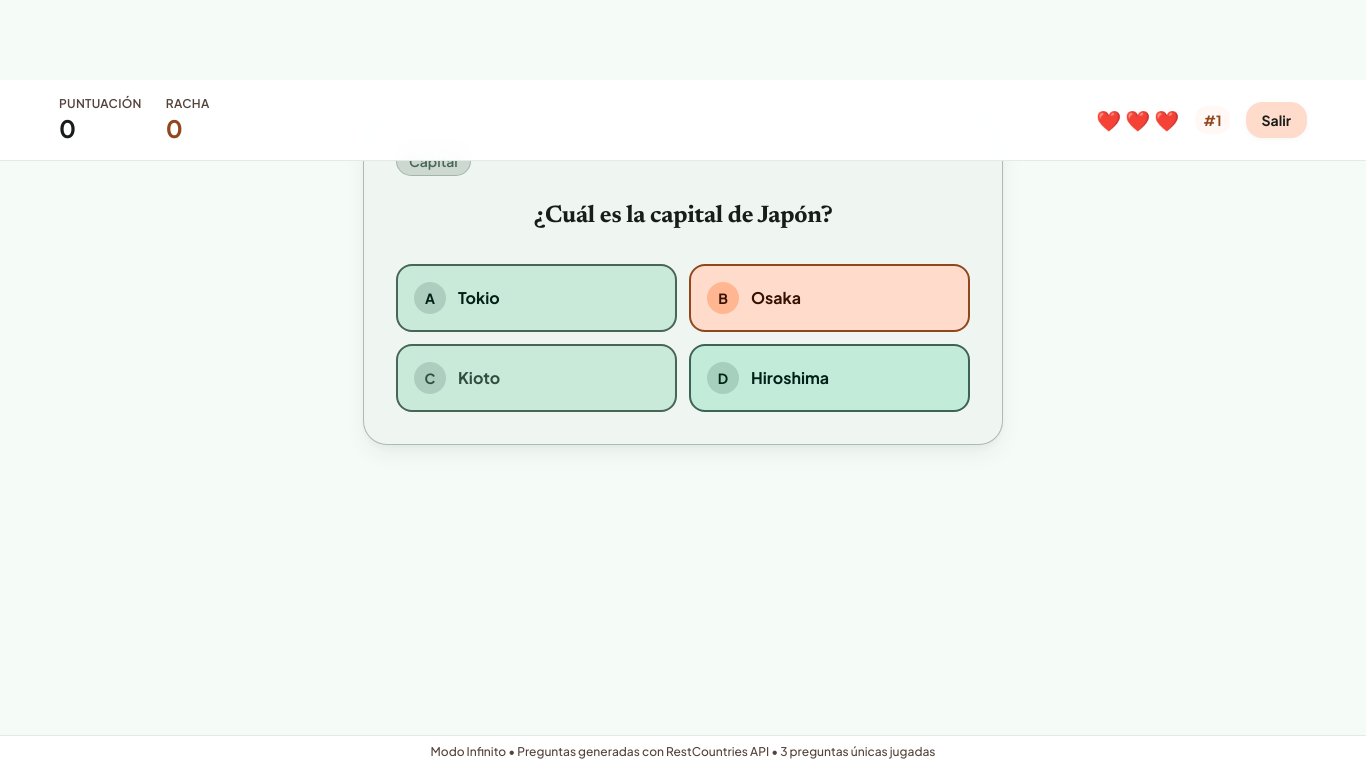
TriviaInfinitePage — Accesibilidad › Indicador de vidas › pierde un corazón al fallar
Expected: the heading "¿Cuál es la capital de Japón?" is shown, [533,204,833,228]
# Respuesta incorrecta
Click the button "B Osaka".
click(723, 298)  # box [689,264,970,332]
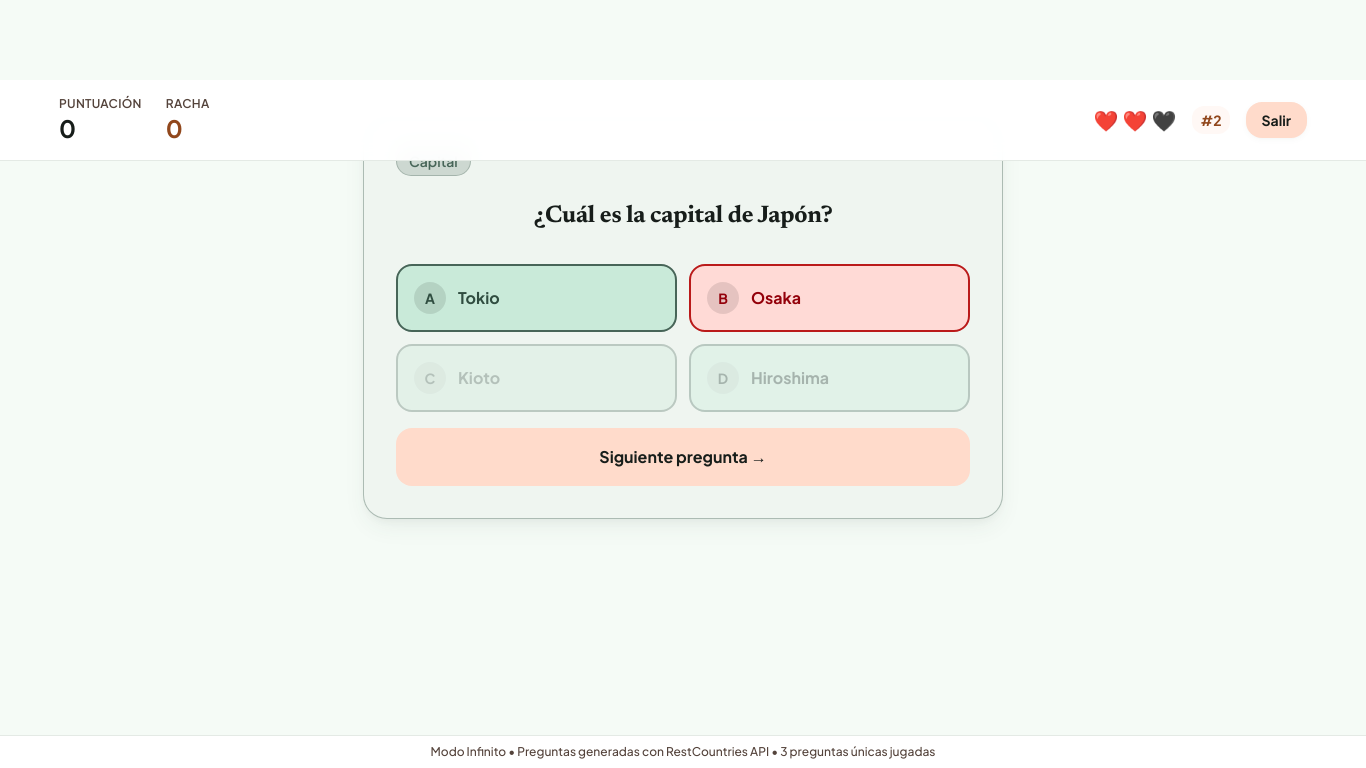
Now the element named "vidas restantes" reads "❤️ ❤️ 🖤", box [1094,110,1176,130]
